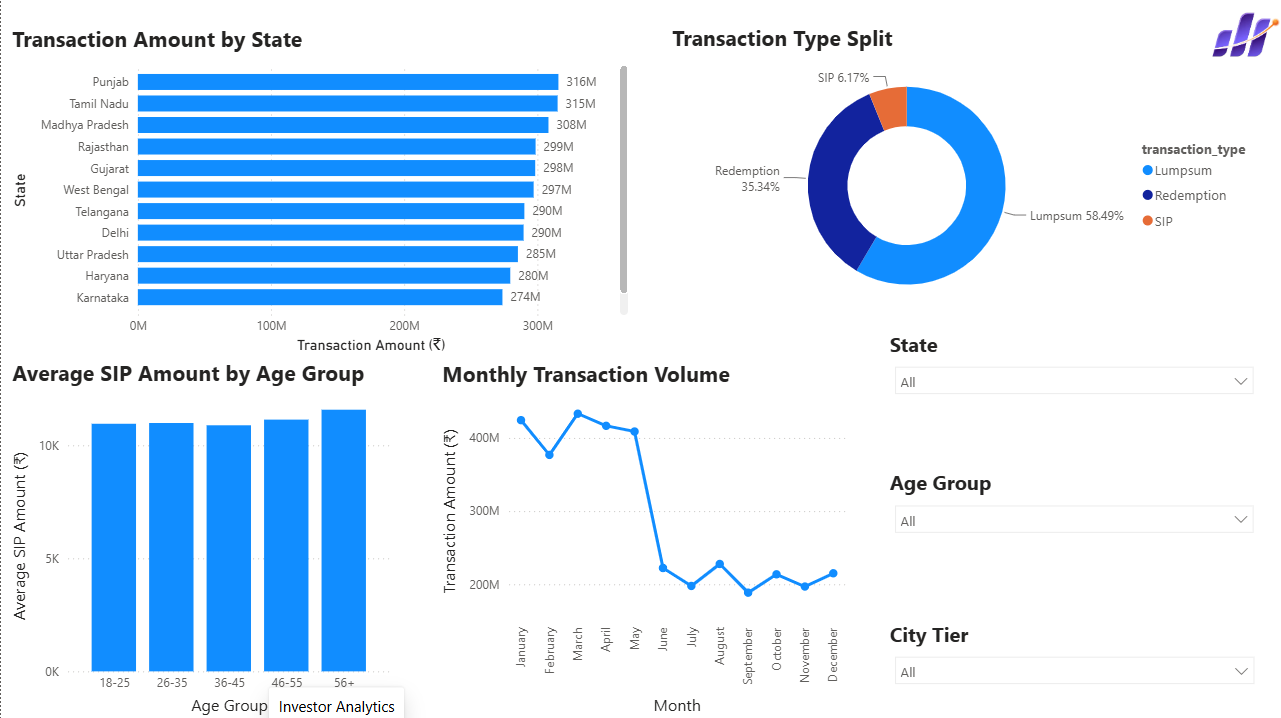

This screenshot's page, from the dashboard's own definition file:
{"tool":"powerbi","page":{"name":"Investor Analytics","canvas":[1280,720],"ordinal":2},"visuals":[{"type":"clusteredBarChart","title":"Transaction Amount by State","fields":{"Category":["Transactions.state"],"Y":["Sum(Transactions.amount_inr)"]},"box":[6.5,23.2,625.9,334.3],"z":0},{"type":"donutChart","title":"Transaction Type Split","fields":{"Category":["Transactions.transaction_type"],"Y":["Sum(Transactions.amount_inr)"]},"box":[666,22.9,598.4,298],"z":1000},{"type":"clusteredColumnChart","title":"Average SIP Amount by Age Group","fields":{"Category":["Transactions.age_group"],"Y":["Avg(Transactions.amount_inr)"]},"box":[6.5,357.5,388.5,362.7],"z":2000},{"type":"lineChart","title":"Monthly Transaction Volume","fields":{"Category":["Transactions.transaction_date.Variation.Date Hierarchy.Month"],"Y":["Sum(Transactions.amount_inr)"]},"box":[436.7,358.3,412.6,361.9],"z":3000},{"type":"slicer","title":"State","fields":{"Values":["Transactions.state"]},"box":[884.3,330.6,378.8,100.1],"z":4000},{"type":"slicer","title":"Age Group","fields":{"Values":["Transactions.age_group"]},"box":[884.3,469.3,378.8,100.1],"z":5000},{"type":"slicer","title":"City Tier","fields":{"Values":["Transactions.city_tier"]},"box":[884.1,620.6,379.4,99.4],"z":6000},{"type":"image","box":[1210.1,0,70,65.1],"z":7000}]}

Visuals, with their boxes in screenshot pixels (x1, y1, x2, y2), scaled from the page's 1280x720 canvas onto the 1281x718 screenshot:
"Transaction Amount by State" clusteredBarChart: select_region(7, 23, 633, 357)
"Transaction Type Split" donutChart: select_region(667, 23, 1265, 320)
"Average SIP Amount by Age Group" clusteredColumnChart: select_region(7, 357, 395, 717)
"Monthly Transaction Volume" lineChart: select_region(437, 357, 850, 717)
"State" slicer: select_region(885, 330, 1264, 430)
"Age Group" slicer: select_region(885, 468, 1264, 568)
"City Tier" slicer: select_region(885, 619, 1264, 717)
image: select_region(1211, 0, 1280, 65)
